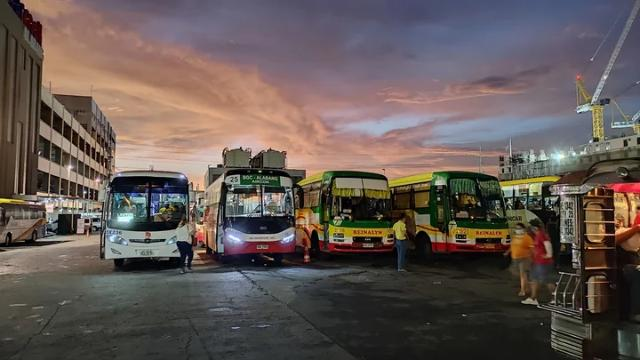bus: (389, 170, 510, 260), (202, 163, 297, 265), (101, 169, 194, 268), (291, 169, 390, 260), (497, 175, 563, 251), (0, 199, 47, 247)
